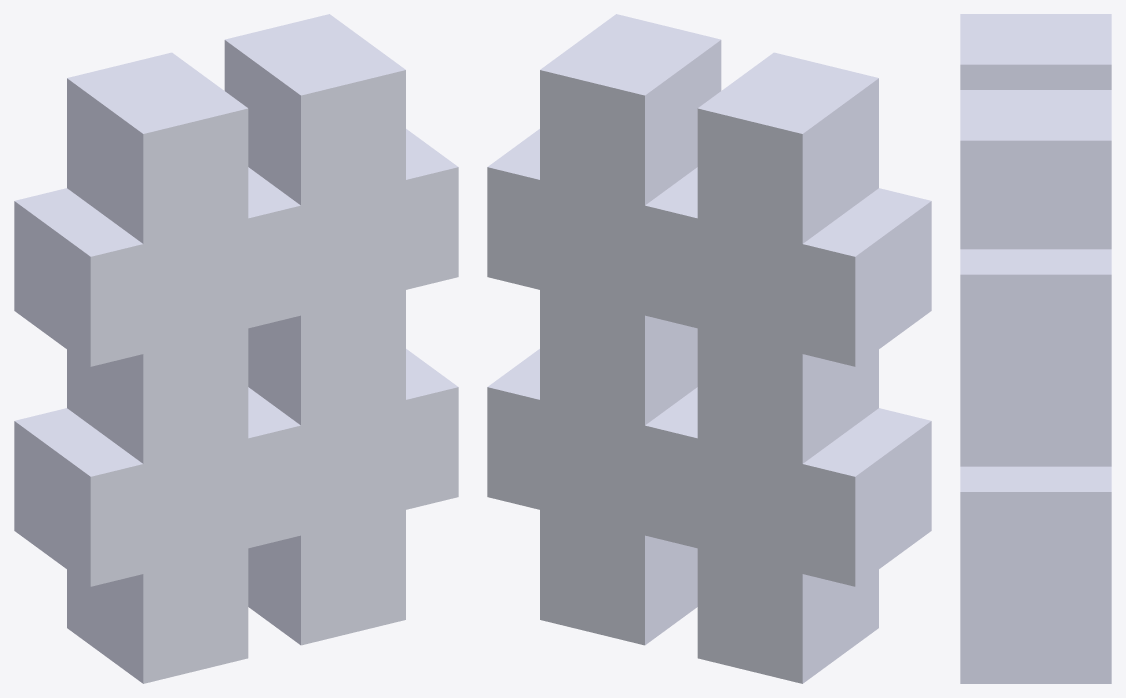
3 renders of one model, left to right at view 1: azimuth 30°, elevation 25°; view 2: azimuth 150°, elevation 25°; view 3: azimuth 270°, elevation 25°, orthographic.
Visible parts, largest first — view 1: #_DeltaBlock_Grey; view 2: #_DeltaBlock_Grey; view 3: #_DeltaBlock_Grey.
Part boxes in pixels (x1,y1,x2,y2): #_DeltaBlock_Grey: [14, 14, 458, 683]; #_DeltaBlock_Grey: [487, 14, 931, 683]; #_DeltaBlock_Grey: [960, 14, 1111, 683].
Size of what is drawn, in the model's own units: 0.125 by 0.1786 by 0.045.
Materials: 2 (2 with a texture image).
